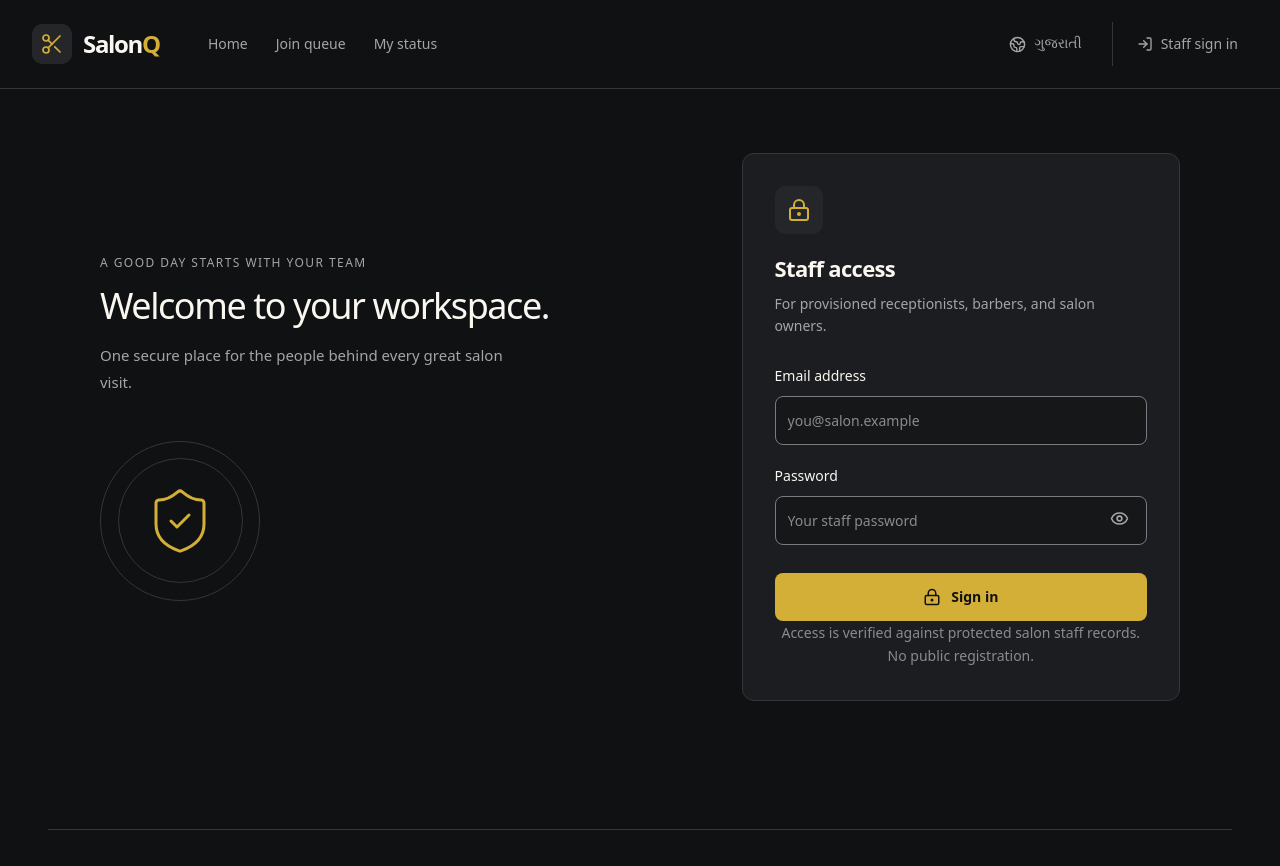
Scenario: staff routes and credential form › validates credentials, toggles password visibility and delegates sign-in without storing the password
This screenshot has width=1280, height=866.
Click the button "Sign in" at (961,597), box x1=775 y1=573 x2=1147 y2=621
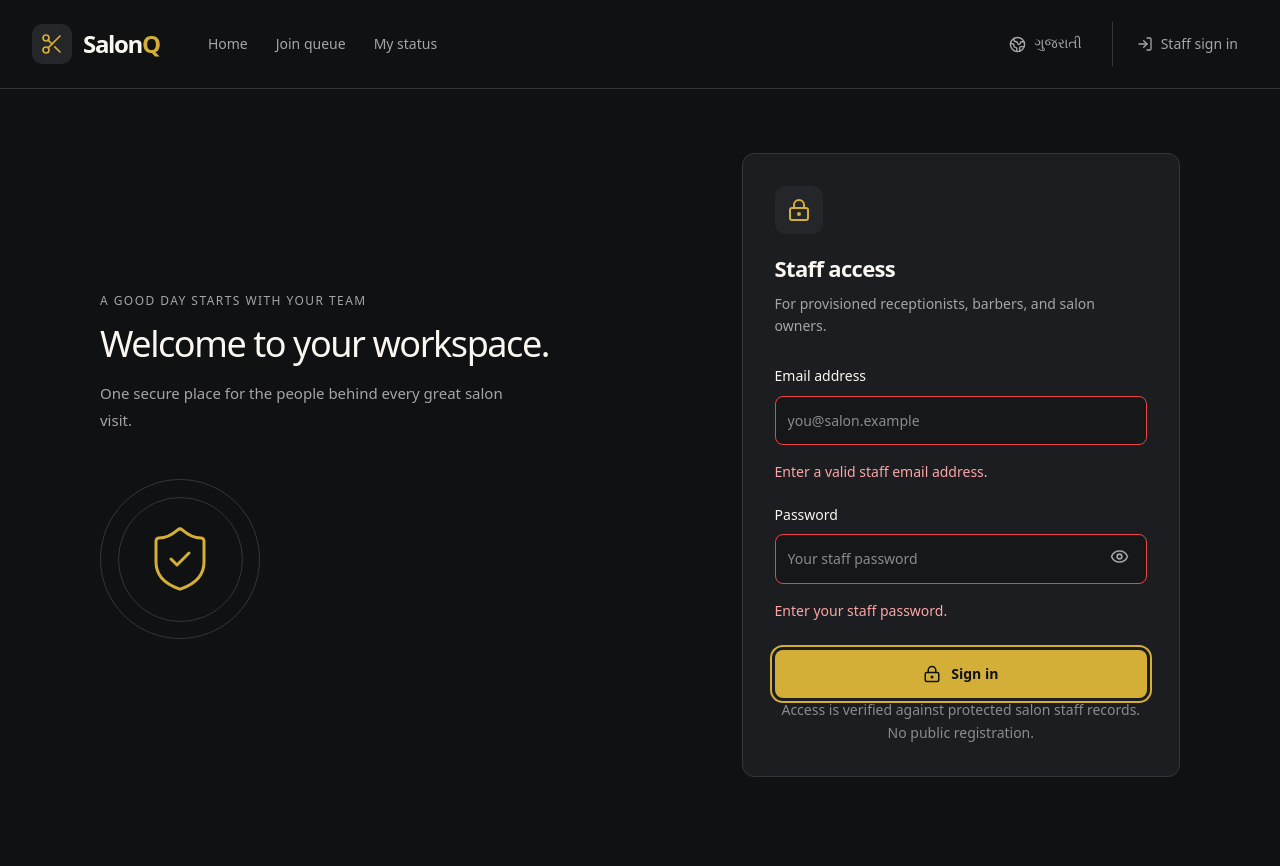
expect the text "Enter a valid staff email address." is shown: met, box x1=775 y1=462 x2=988 y2=481
Type "reception@salonq.example" into the field labelled "Email address" at (961,421), box x1=775 y1=396 x2=1147 y2=445
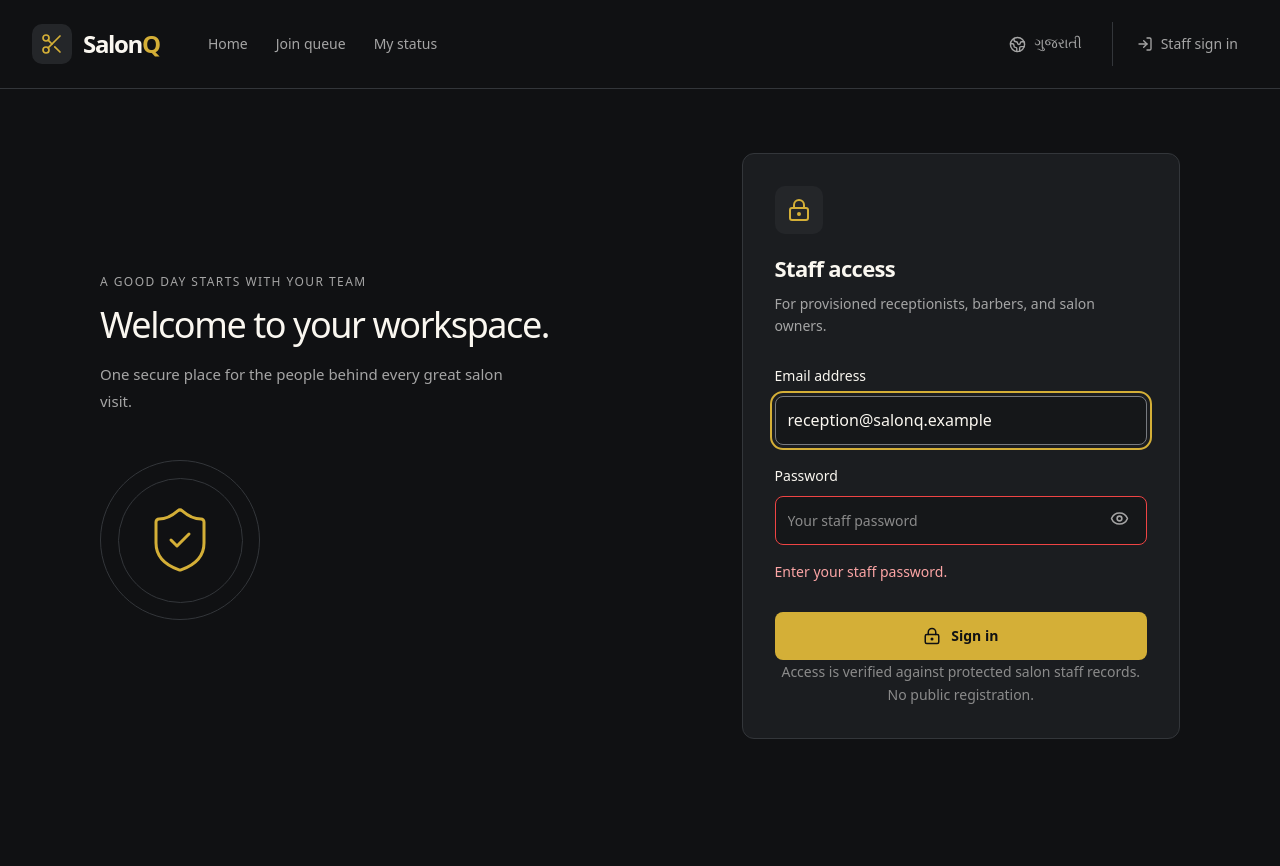
Type "Fictional-unit-password" into the password field labelled "Password" at (961,521), box x1=775 y1=496 x2=1147 y2=545
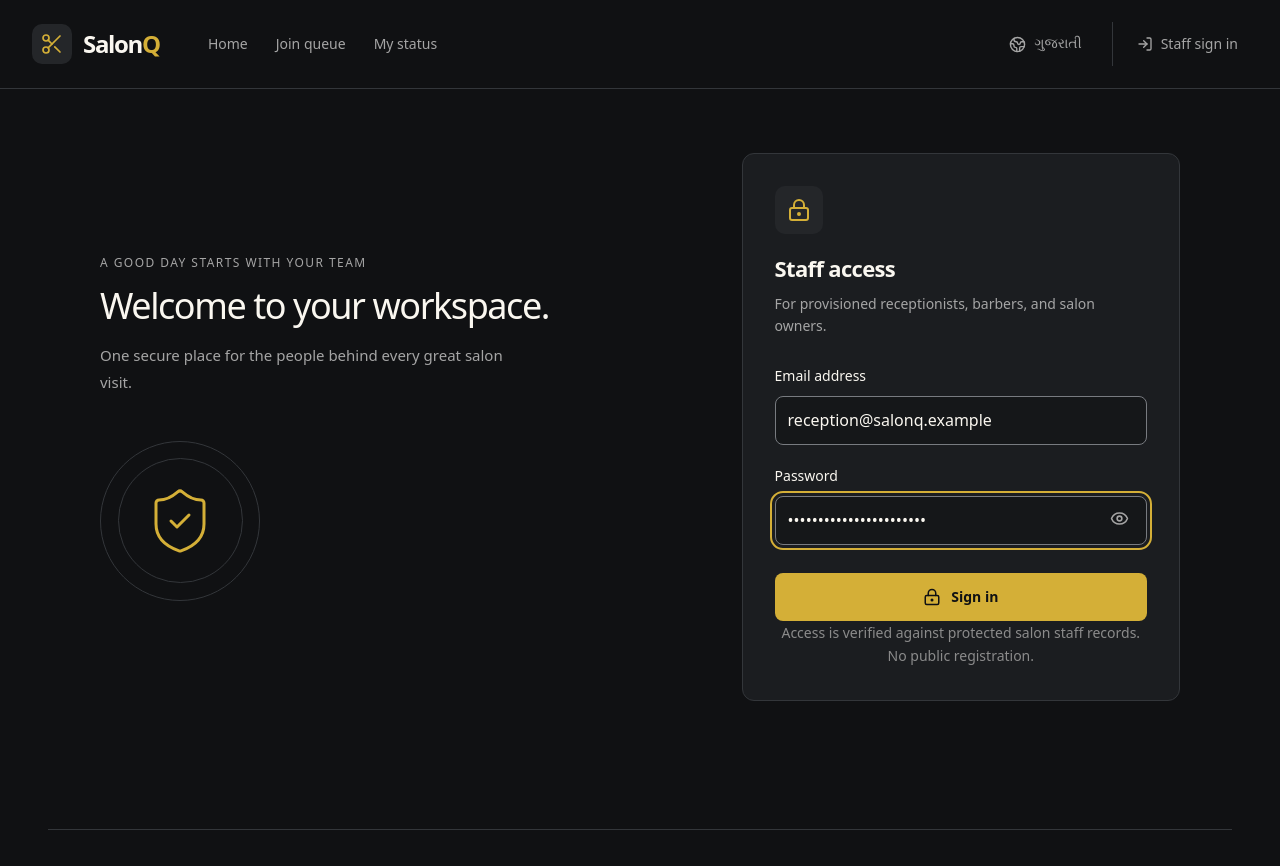
Click the button named "Show password" at (1119,518), box x1=1097 y1=496 x2=1141 y2=540
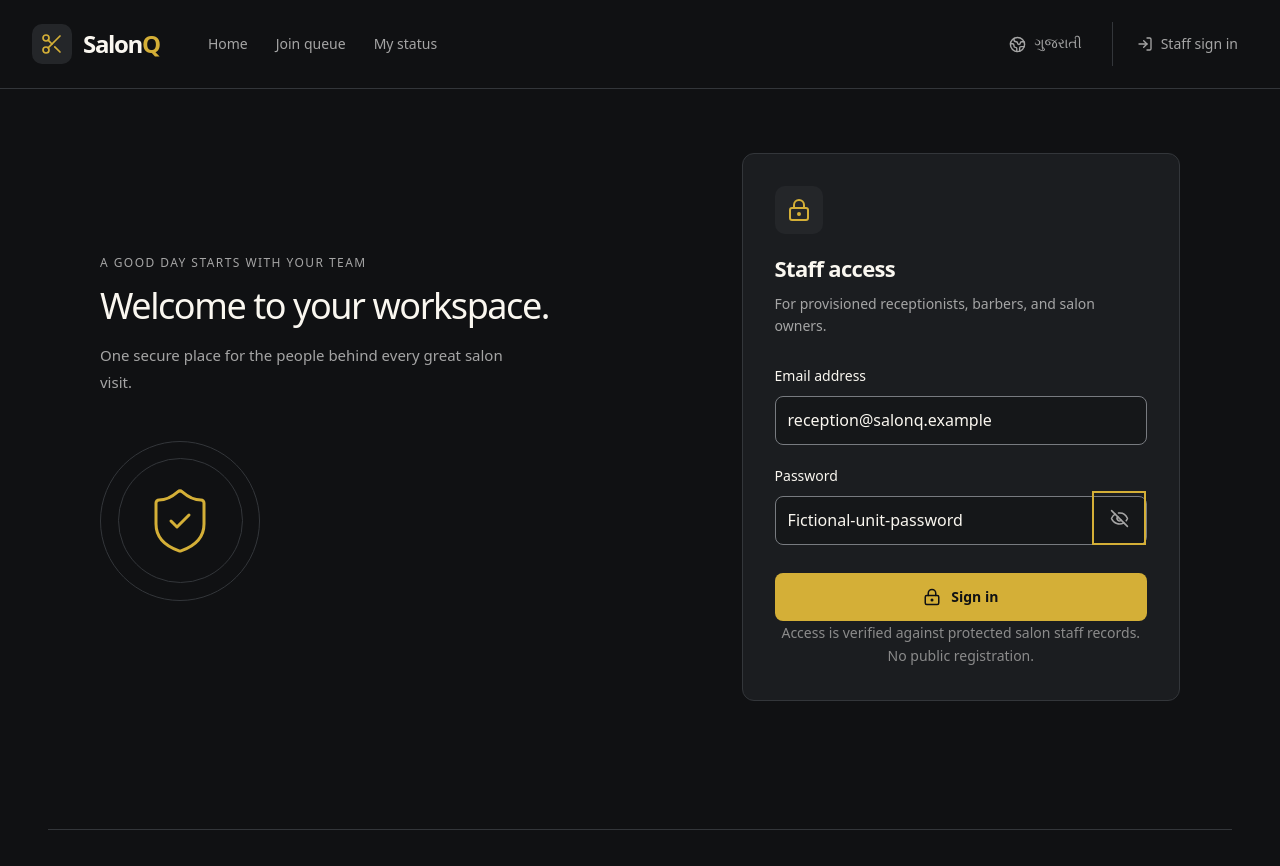
expect the field labelled "Password" shows its text: met, box x1=775 y1=496 x2=1147 y2=545
Click the button "Sign in" at (961,597), box x1=775 y1=573 x2=1147 y2=621
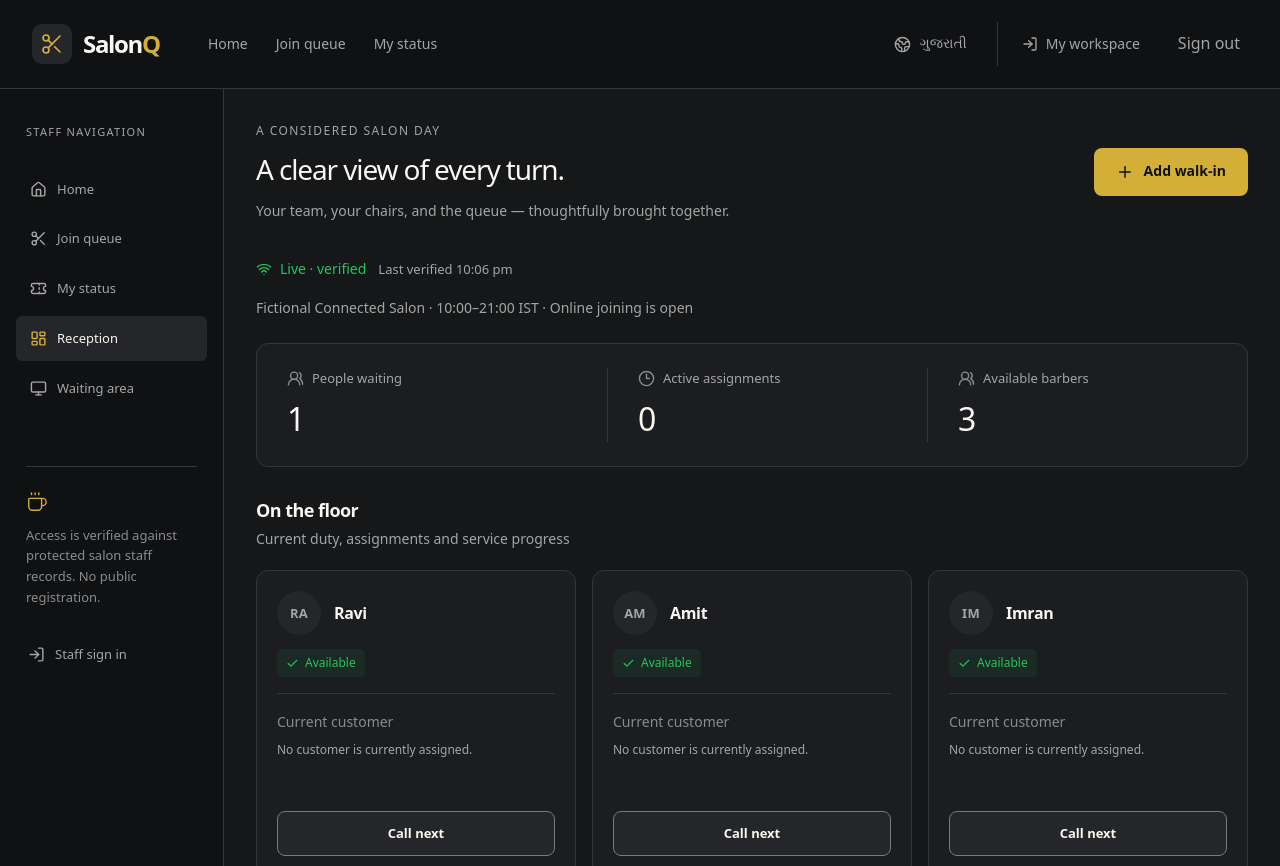
expect the heading "A clear view of every turn." is shown: met, box x1=256 y1=150 x2=564 y2=188
